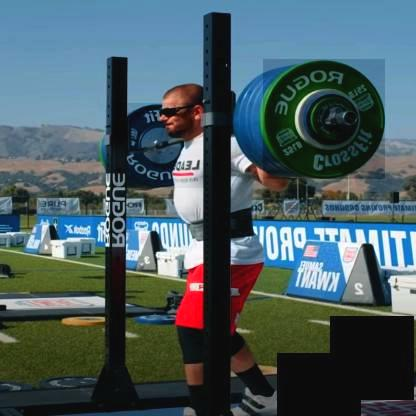barbell: (262, 59, 384, 180), (113, 104, 204, 189)
